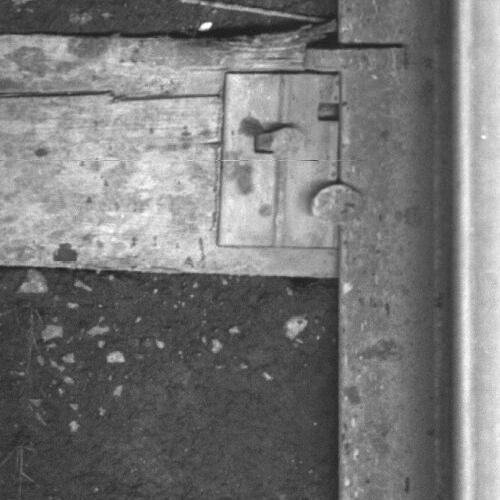crutch: (303, 45, 410, 72)
do: (215, 72, 366, 248)
hole_do: (307, 94, 357, 128)
rail: (452, 1, 500, 500)
tie_wood: (1, 33, 339, 276)
wood_crack: (1, 85, 226, 107)
